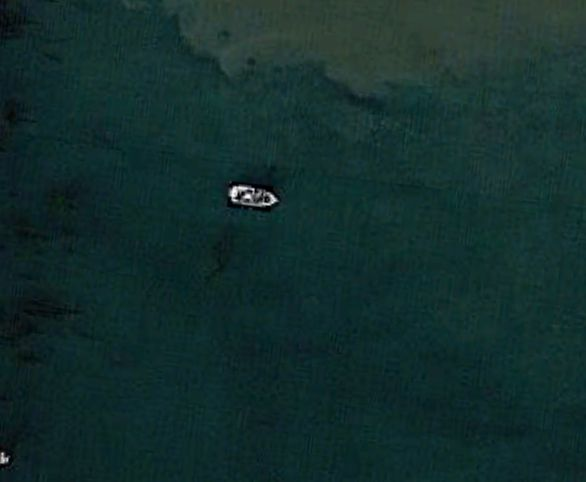boat: (228, 185, 281, 210)
